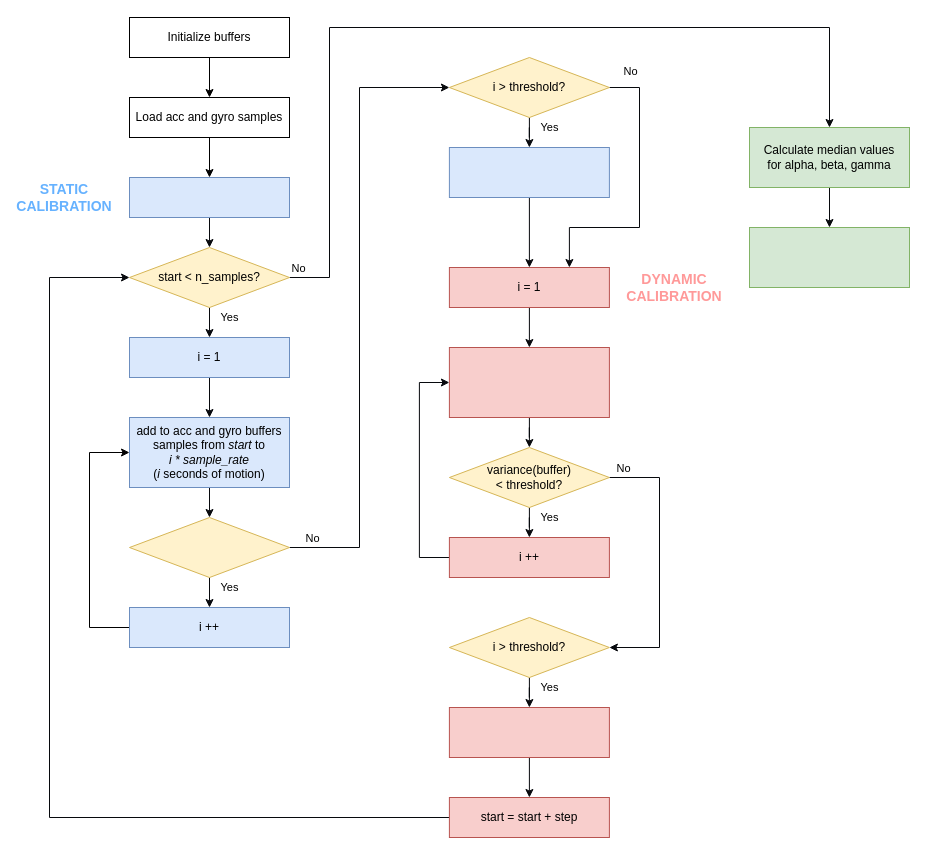
This 927x855 diagram has some shape labels left out. The centre of each missing label's shape, as x and y in pixels:
add to gyro buffer samples from start to i * sample_rate ( i seconds of motion): pixel 528 382
Calculate alpha, gamma angles Add them to their buffers: pixel 528 172
Calculate beta angle Add it to its buffer: pixel 528 732
Compute calibration using these values: pixel 829 257
start = 1: pixel 209 197
variance(buffers) < threshold?: pixel 209 547
